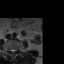CCS_normal: (12, 47, 14, 55)
LFS_stenosis: (16, 47, 18, 52)
LLS_stenosis: (14, 47, 16, 53)
RFS_stenosis: (8, 47, 10, 53)
RLS_stenosis: (10, 47, 12, 53)
